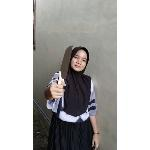Pisau: (52, 44, 76, 88)
